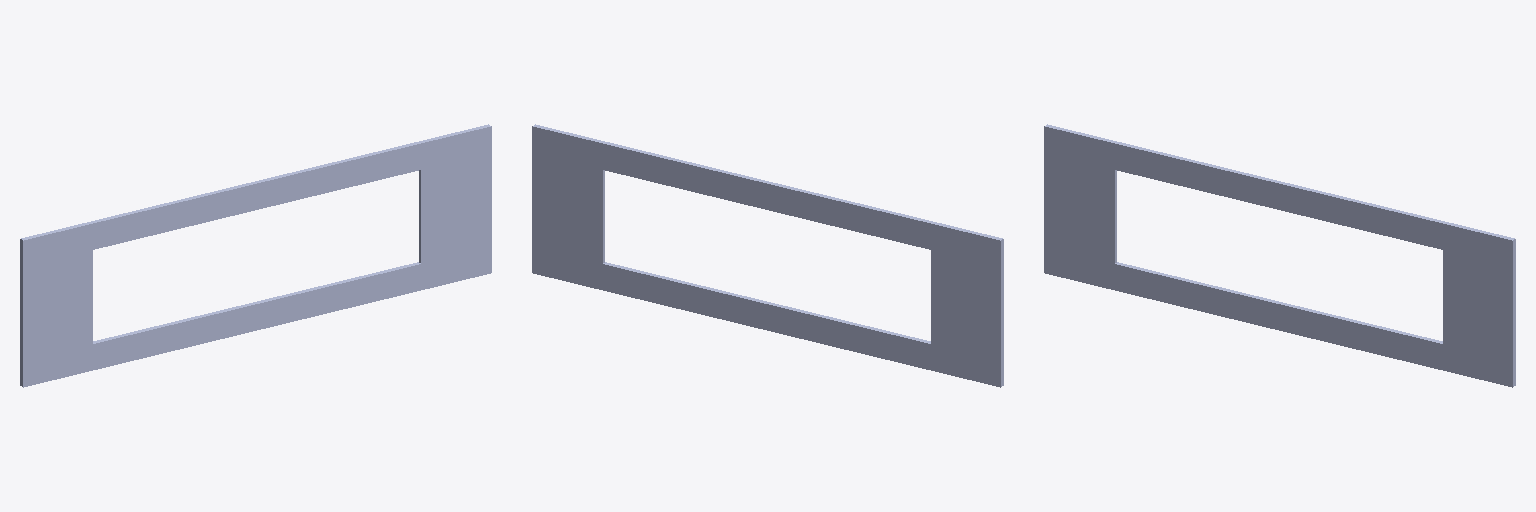
robot.urdf — slit:
<?xml version="1.0" encoding="utf-8"?>
<!-- This URDF was automatically created by SolidWorks to URDF Exporter! Originally created by [author] ([email redacted]) 
     Commit Version: 1.5.1-0-g916b5db  Build Version: 1.5.7152.31018
     For more information, please see http://wiki.ros.org/sw_urdf_exporter -->
<robot
  name="slit">
  <link
    name="slit">
    <inertial>
      <origin
        xyz="1.6368E-17 -0.005 -3.15418484115444E-17"
        rpy="0 0 0" />
      <mass
        value="1.656" />
      <inertia
        ixx="0.018385"
        ixy="2.85117315041539E-35"
        ixz="-4.7878E-19"
        iyy="0.21349"
        iyz="-1.06142163280894E-18"
        izz="0.19513" />
    </inertial>
    <visual>
      <origin
        xyz="0 0 0"
        rpy="1.5707963267949 0 0" />
      <geometry>
        <mesh
          filename="package://slit/meshes/slit.STL" />
      </geometry>
      <material
        name="">
        <color
          rgba="0.79216 0.81961 0.93333 1" />
        <texture
          filename="package://slit/textures/" />
      </material>
    </visual>
    <collision>
      <origin
        xyz="0 0 0"
        rpy="1.5707963267949 0 0" />
      <geometry>
        <mesh
          filename="package://slit/meshes/slit.STL" />
      </geometry>
    </collision>
  </link>
</robot>

--- Render facts (derived) ---
3 views of the same robot in one strip: view 1: azimuth 30°, elevation 25°; view 2: azimuth 150°, elevation 25°; view 3: azimuth 330°, elevation 25° (orthographic).
Model slit with 1 links and 0 joints (none), rooted at slit, posed every joint at zero.
Visible links, largest first — view 1: slit; view 2: slit; view 3: slit.
Link boxes in pixels (x1=…): slit: x1=20, y1=124, x2=491, y2=387; slit: x1=532, y1=124, x2=1003, y2=387; slit: x1=1044, y1=124, x2=1515, y2=387.
Bounding box of the posed robot: 1 × 0.01 × 0.3 m (x, y, z).
Meshes: 1 distinct files referenced, 1 mesh visuals loaded (1 binary STL).